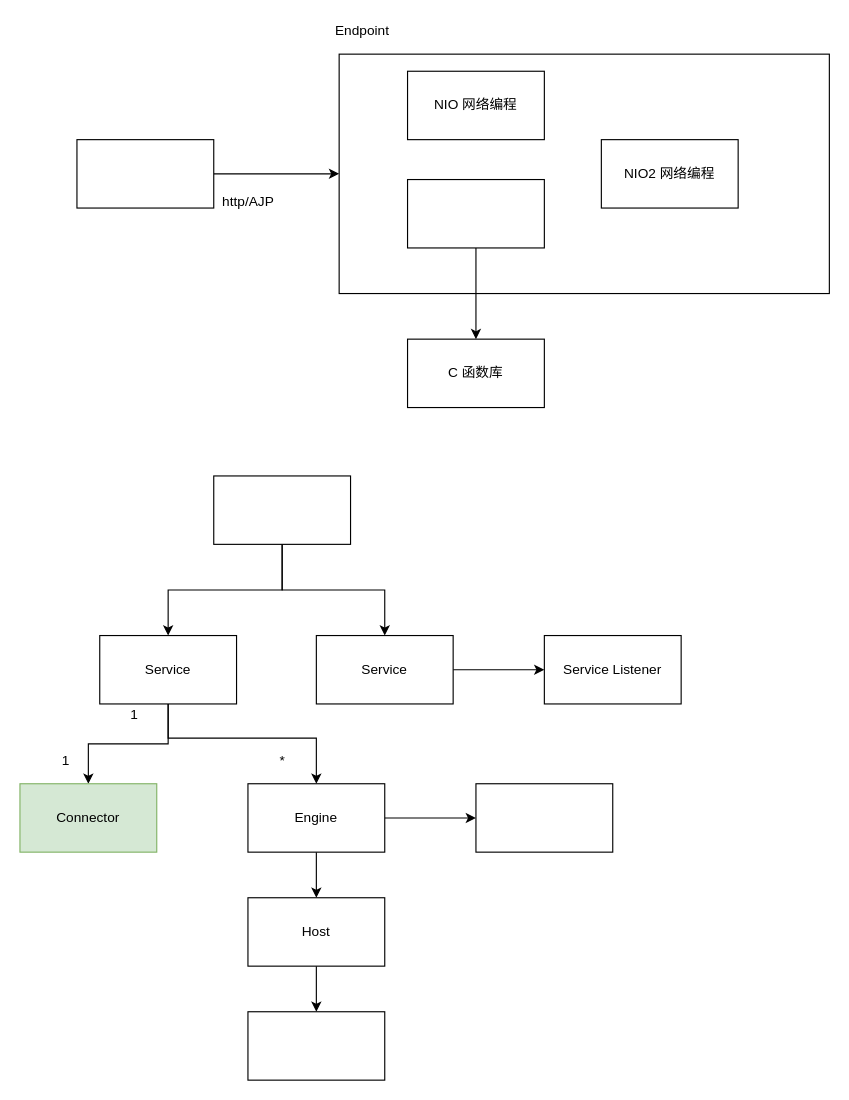
Image size: 849x1100. Some labels were removed from this diagram. Each missing label, with the centre of its shape:
"APR 网络编程" belongs at [475,213].
"Context" belongs at [316,1045].
"Engine Listener" belongs at [544,817].
"Server" belongs at [282,509].
"客户端" belongs at [145,173].
